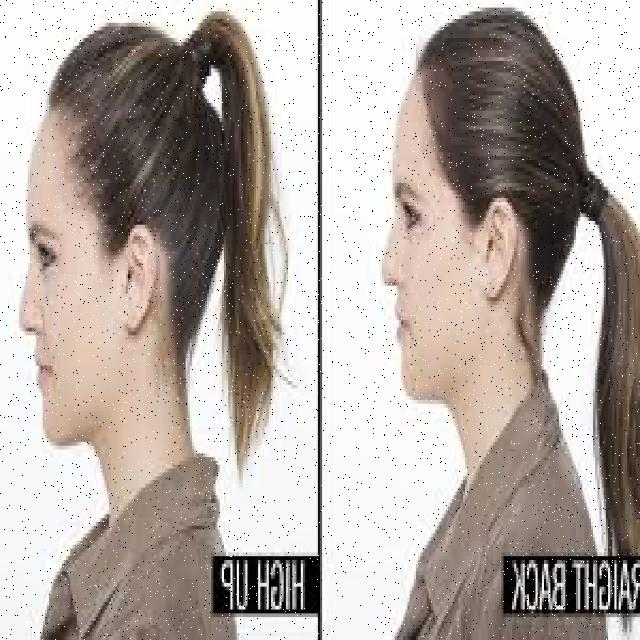Non_Helmet: (7, 0, 301, 457), (375, 0, 638, 422)
